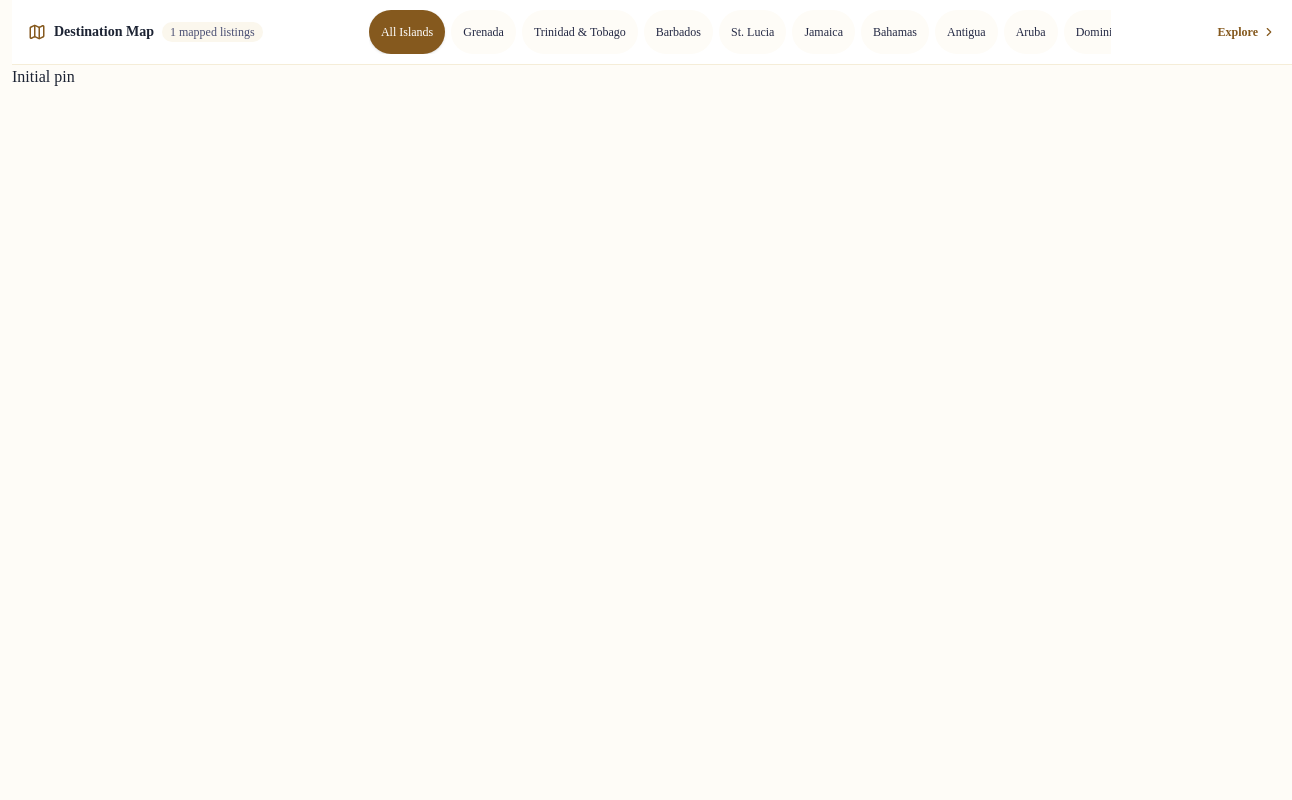
Test: hides previous pins while an island loads and rejects the older island after a newer response even when fetch ignores abort
Click the button "Grenada" at {"x": 484, "y": 32}, box [451,10,516,54]
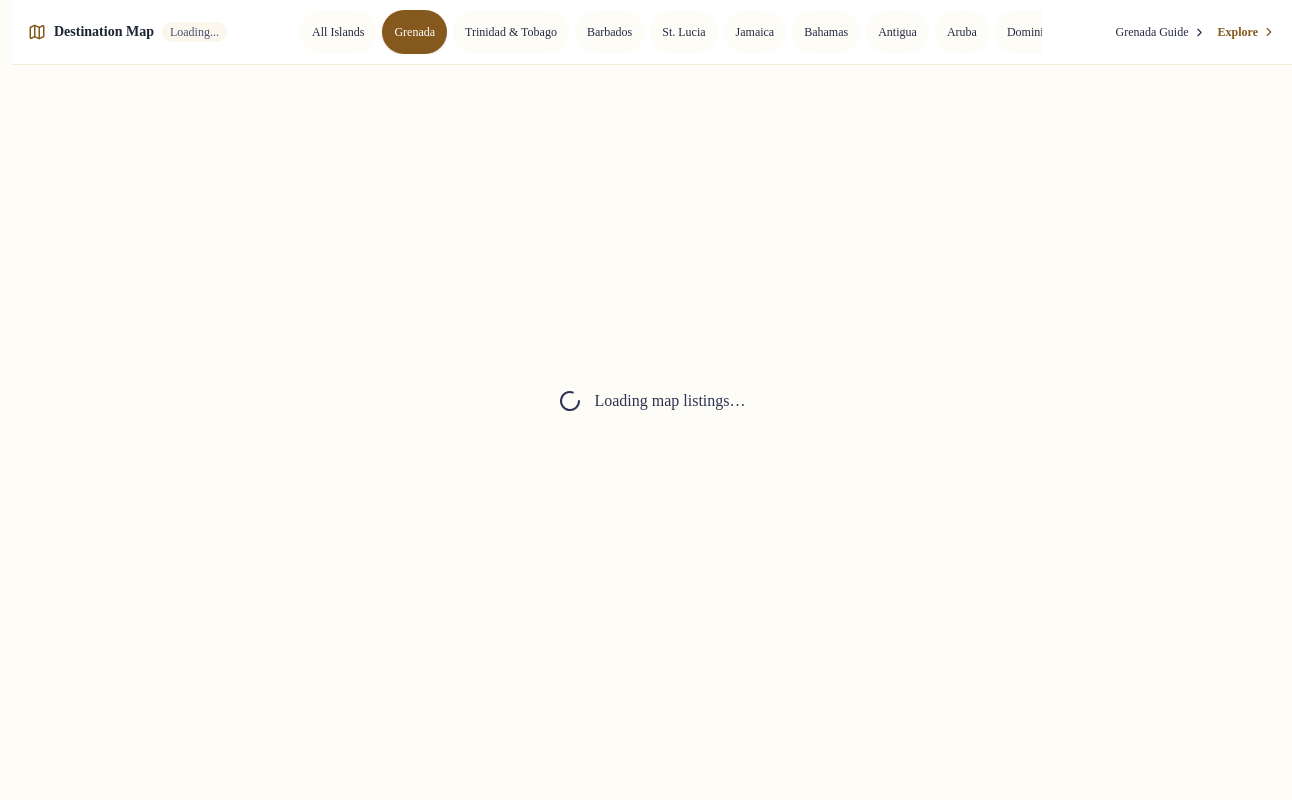
Result: the element showing "Loading map listings…" has attribute aria-busy="true"
Click the button "Barbados" at {"x": 610, "y": 32}, box [575,10,644,54]
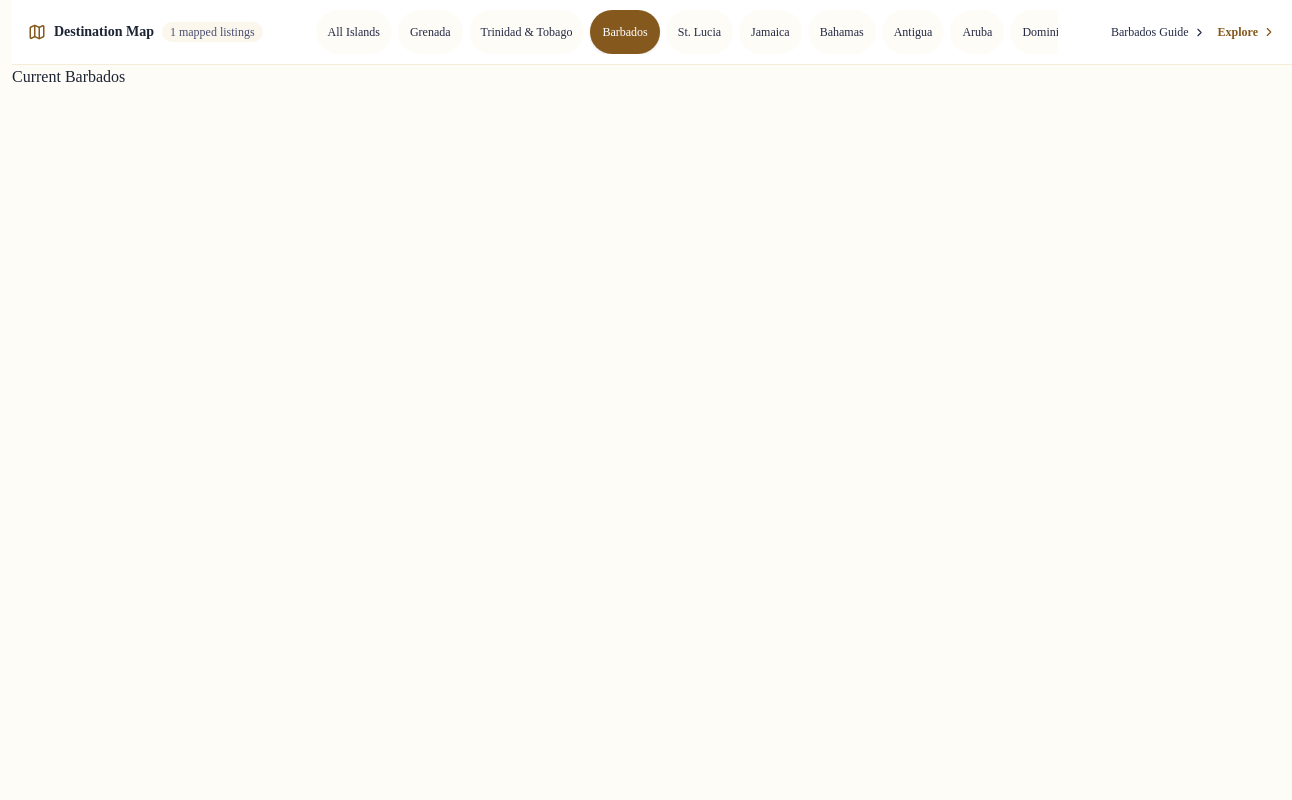
Result: the text "Current Barbados" is shown at [12,68,125,85]
